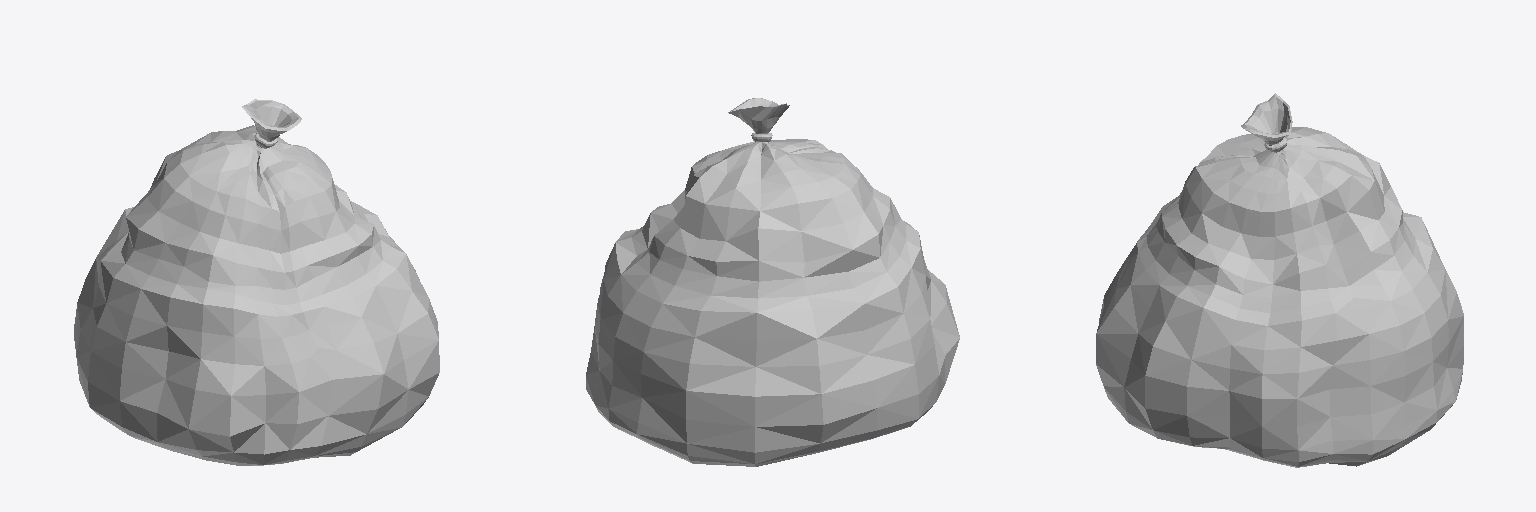
File: trashbag.obj
3 views of the same model, side by side, from view 1: azimuth 30°, elevation 25°; view 2: azimuth 150°, elevation 25°; view 3: azimuth 270°, elevation 25° (orthographic).
Size of the model in its own units: 4.11 by 3.82 by 4.12.